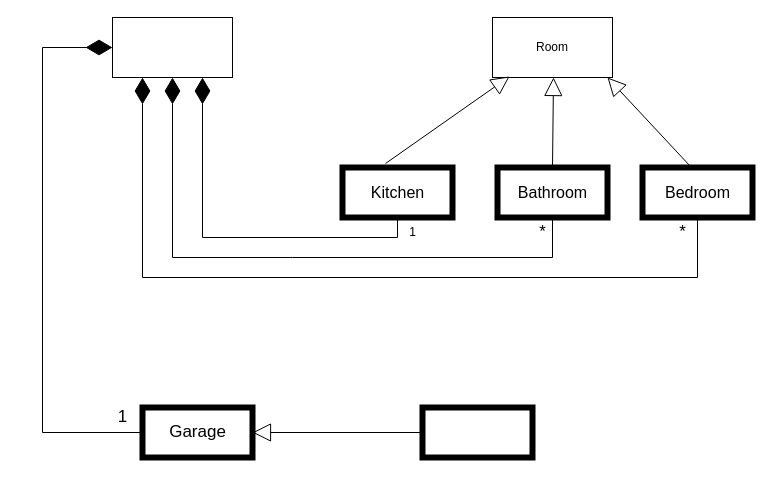
The diagram is 773 pixels wide and 478 high, and some of its shapes have lost their labels. Here are the shapes that lost their labels. From the top down, the centre of each, then its label:
At (x=172, y=47): "House".
At (x=477, y=432): "Car".
